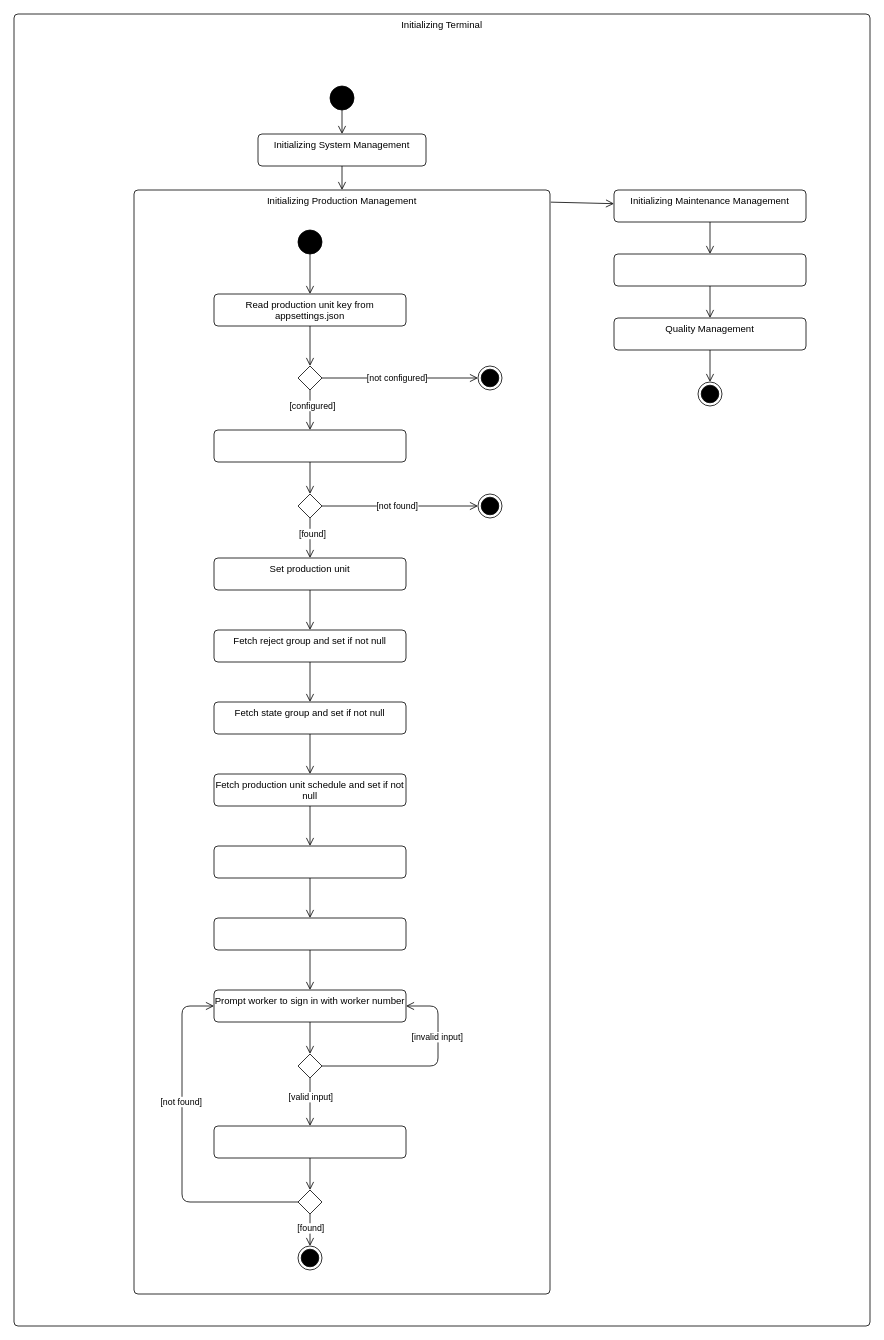
The diagram is 884 pixels wide and 1340 high, and some of its shapes have lost their labels. Here are the shapes that lost their labels. From the top down, the box of each, then its label:
(613, 253, 806, 286): Initializing Inventory Management
(213, 429, 406, 462): Load production unit
(213, 845, 406, 878): Fetch production process and set if not null
(213, 917, 406, 950): Determine order ID, fetch order and set if not null
(213, 1125, 406, 1158): Fetch worker
